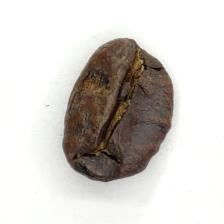NG: (74, 58, 152, 167)
